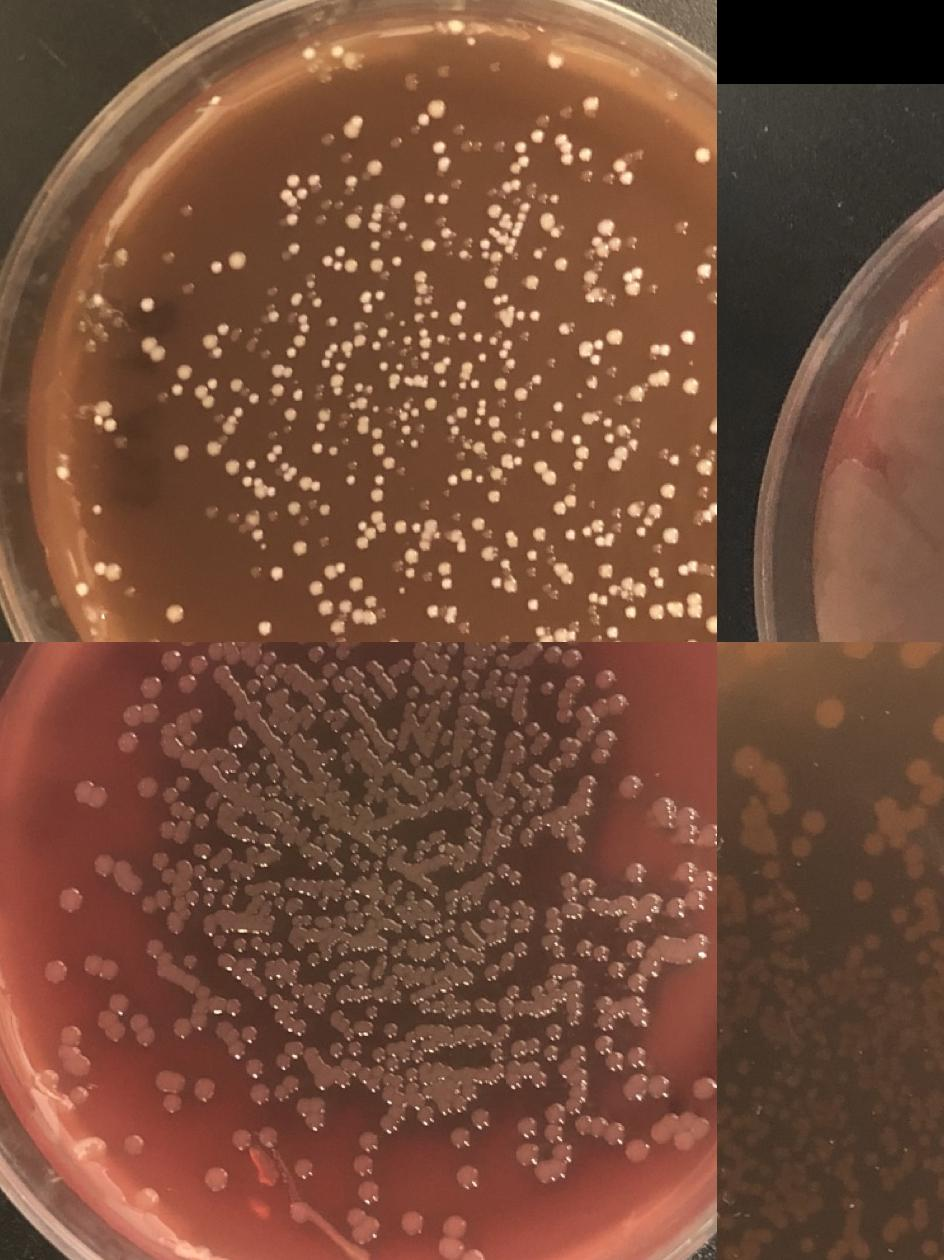assalmonicida: (860, 797, 928, 867), (904, 757, 944, 800), (283, 311, 312, 360), (895, 642, 942, 671), (368, 425, 396, 472), (320, 241, 358, 274), (338, 598, 376, 627), (731, 747, 762, 779), (280, 172, 308, 204), (356, 288, 388, 314), (95, 402, 118, 434), (416, 100, 444, 126), (606, 444, 630, 474), (91, 558, 122, 580), (141, 336, 166, 363), (787, 835, 811, 862), (551, 494, 577, 518), (816, 701, 840, 727), (801, 810, 825, 836), (624, 266, 643, 298), (512, 139, 532, 169), (552, 562, 575, 588), (533, 459, 556, 485), (849, 878, 872, 904), (927, 713, 944, 746), (192, 384, 214, 409), (369, 473, 386, 504), (270, 362, 296, 381), (602, 624, 629, 642), (910, 949, 932, 971), (902, 923, 924, 945), (885, 904, 907, 926), (862, 930, 884, 952), (849, 1239, 872, 1260), (767, 794, 790, 815), (684, 591, 702, 617), (913, 885, 935, 906), (841, 642, 873, 656), (758, 862, 780, 882), (538, 628, 569, 642), (575, 341, 594, 359), (694, 459, 712, 477), (694, 262, 712, 280), (694, 146, 712, 164), (680, 378, 698, 396), (665, 600, 683, 618), (660, 527, 678, 545), (659, 482, 677, 500), (616, 168, 634, 186), (595, 219, 613, 237), (581, 96, 599, 114), (545, 52, 563, 70), (534, 213, 552, 231), (388, 193, 406, 211), (342, 212, 360, 230), (316, 600, 334, 618), (256, 620, 274, 638), (204, 439, 222, 457), (165, 605, 183, 623), (677, 328, 695, 345), (652, 370, 670, 387), (605, 328, 623, 345), (402, 547, 419, 565), (347, 575, 364, 593), (342, 121, 359, 139), (306, 579, 323, 597), (282, 211, 300, 228), (228, 251, 246, 268), (580, 410, 598, 426), (548, 428, 566, 444), (524, 598, 542, 614), (484, 204, 502, 220), (424, 603, 442, 619), (410, 269, 428, 285), (364, 160, 382, 176), (328, 42, 346, 58), (328, 620, 346, 636), (314, 406, 332, 422), (300, 45, 318, 61), (296, 476, 314, 492), (268, 382, 286, 398), (200, 335, 218, 351), (172, 444, 190, 460), (54, 464, 72, 480), (606, 236, 623, 252), (490, 429, 507, 445), (479, 548, 496, 564), (353, 535, 370, 551), (350, 332, 367, 348), (286, 292, 303, 308), (74, 579, 91, 595), (707, 408, 717, 435), (434, 158, 452, 173), (598, 564, 614, 580), (582, 270, 598, 286), (578, 147, 594, 163), (512, 387, 528, 403), (502, 578, 518, 594), (470, 440, 486, 456), (446, 311, 462, 327), (430, 140, 446, 156), (420, 237, 436, 253), (368, 510, 384, 526), (366, 237, 382, 253), (310, 295, 326, 311), (304, 171, 320, 187), (288, 242, 304, 258), (268, 566, 284, 582), (242, 511, 258, 527), (224, 459, 240, 475), (208, 260, 224, 276), (176, 364, 192, 380), (138, 296, 154, 312), (112, 248, 128, 264), (388, 254, 406, 268), (674, 219, 689, 235), (626, 502, 641, 518), (623, 605, 638, 621), (553, 256, 568, 272), (533, 526, 548, 542), (530, 130, 545, 146), (526, 308, 542, 323), (501, 453, 516, 469), (431, 360, 446, 376), (422, 399, 438, 414), (367, 260, 382, 276), (318, 501, 333, 517), (248, 529, 263, 545), (228, 379, 244, 394), (213, 320, 228, 336), (169, 382, 184, 398), (90, 502, 105, 518), (321, 566, 338, 580), (524, 272, 538, 288), (470, 518, 486, 532), (458, 468, 474, 482), (446, 603, 460, 619), (438, 576, 452, 592), (422, 520, 438, 534), (386, 372, 402, 386), (342, 472, 358, 486), (290, 542, 306, 556), (286, 500, 300, 516), (282, 407, 296, 423), (591, 518, 606, 532), (492, 377, 506, 392), (482, 276, 497, 290), (705, 616, 717, 633), (392, 520, 406, 534), (328, 374, 342, 388), (707, 501, 717, 517), (682, 638, 700, 642), (383, 638, 400, 642)
vangil: (622, 934, 710, 1028), (638, 859, 717, 920), (534, 1099, 578, 1184), (648, 794, 717, 848), (160, 773, 211, 830), (649, 1110, 709, 1150), (509, 764, 554, 813), (437, 1213, 482, 1260), (244, 649, 288, 695), (212, 1020, 260, 1060), (508, 1034, 560, 1066), (58, 1026, 90, 1077), (400, 1080, 435, 1126), (489, 671, 531, 709), (96, 994, 129, 1042), (416, 993, 470, 1020), (153, 1070, 186, 1114), (574, 1115, 624, 1144), (556, 674, 584, 723), (528, 642, 580, 668), (558, 1044, 587, 1088), (624, 1072, 670, 1099), (548, 820, 584, 854), (558, 872, 596, 904), (592, 1035, 624, 1072), (293, 1096, 325, 1131), (346, 1209, 377, 1243), (211, 665, 242, 699), (92, 856, 132, 882), (272, 1040, 304, 1072), (485, 900, 535, 920), (591, 728, 618, 764), (364, 1044, 388, 1084), (150, 849, 176, 885), (129, 1011, 155, 1047), (592, 994, 616, 1032), (524, 722, 550, 756), (83, 955, 118, 980), (594, 692, 630, 716), (575, 938, 610, 962), (378, 1102, 406, 1132), (272, 1073, 300, 1103), (487, 1024, 510, 1060), (325, 1040, 366, 1060), (74, 781, 106, 806), (121, 704, 158, 724), (176, 706, 204, 727), (691, 1077, 715, 1101), (617, 776, 641, 800), (514, 1141, 538, 1165), (184, 890, 216, 908), (138, 674, 162, 698), (496, 864, 522, 886), (280, 1016, 308, 1036), (624, 861, 647, 885), (624, 1140, 647, 1164), (322, 642, 350, 661), (542, 936, 565, 959), (456, 1166, 478, 1190), (58, 888, 80, 912), (243, 1058, 264, 1078), (556, 737, 582, 753), (429, 642, 458, 656), (626, 1048, 646, 1068), (594, 670, 614, 690), (544, 1023, 564, 1043), (514, 1118, 534, 1138), (511, 938, 531, 958), (471, 1110, 491, 1130), (448, 767, 464, 792), (448, 1128, 468, 1148), (402, 1214, 422, 1234), (380, 1020, 400, 1040), (361, 1002, 381, 1022), (358, 1130, 378, 1150), (358, 1182, 378, 1202), (352, 1156, 372, 1176), (334, 985, 354, 1005), (223, 998, 243, 1018), (215, 951, 235, 971), (206, 1169, 226, 1189), (194, 1081, 214, 1101), (190, 840, 210, 860), (173, 1020, 193, 1040), (156, 818, 176, 838), (144, 938, 164, 958), (136, 778, 156, 798), (69, 1084, 89, 1104), (45, 961, 65, 981), (34, 1071, 54, 1091), (587, 898, 609, 916), (432, 918, 456, 934), (607, 961, 626, 981), (482, 963, 502, 982), (258, 1127, 277, 1147), (528, 1070, 546, 1090), (311, 913, 331, 931), (292, 1160, 312, 1178), (250, 1084, 268, 1104), (232, 1130, 250, 1150), (229, 936, 249, 954), (178, 952, 198, 970), (176, 674, 196, 692), (162, 652, 182, 670), (140, 1190, 158, 1210), (124, 1136, 144, 1154), (516, 828, 534, 846), (320, 662, 338, 680), (207, 642, 225, 660), (189, 656, 207, 674), (140, 896, 158, 914), (118, 734, 136, 752), (306, 645, 323, 663), (227, 730, 246, 746), (578, 776, 596, 792), (382, 726, 400, 742), (364, 694, 382, 710), (265, 992, 283, 1008), (254, 745, 272, 761), (246, 782, 264, 798), (190, 863, 208, 879), (203, 793, 220, 809), (304, 953, 320, 969), (302, 736, 318, 752), (264, 692, 280, 708), (262, 762, 278, 778), (234, 770, 250, 786), (218, 892, 234, 908), (210, 933, 226, 949), (160, 723, 176, 739), (320, 710, 336, 724), (565, 1013, 580, 1027), (182, 732, 197, 746), (545, 907, 559, 921), (542, 976, 556, 990), (528, 984, 542, 998), (510, 813, 524, 827), (506, 984, 520, 998), (495, 654, 509, 668), (464, 746, 478, 760), (444, 675, 458, 689), (425, 883, 439, 897), (473, 999, 488, 1012), (540, 682, 554, 695), (507, 731, 521, 744), (406, 752, 419, 765), (548, 758, 562, 770), (512, 708, 526, 720), (510, 920, 524, 932), (470, 814, 482, 828), (426, 776, 440, 788), (396, 660, 410, 672), (438, 950, 451, 962), (406, 687, 418, 700), (412, 642, 426, 652), (496, 642, 510, 649), (233, 642, 251, 647), (563, 642, 583, 646)
